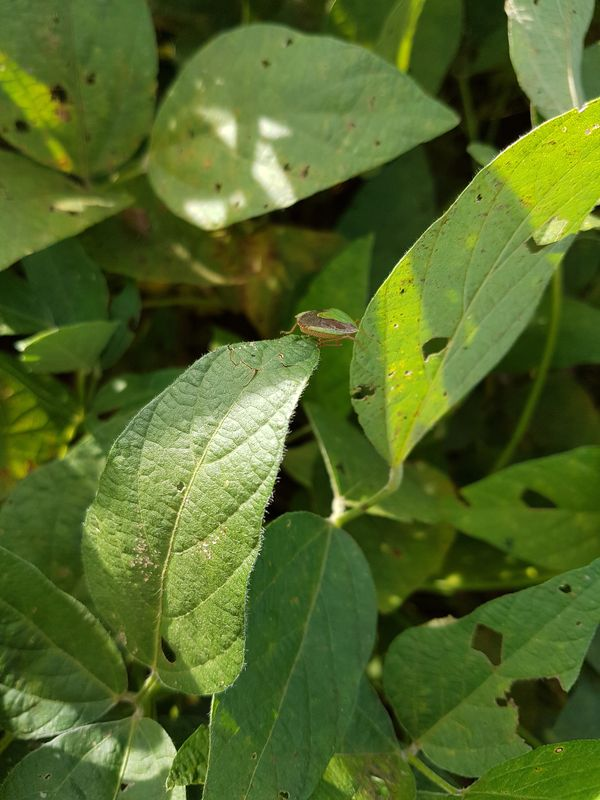Edessa_meditabunda: (274, 297, 369, 362)
